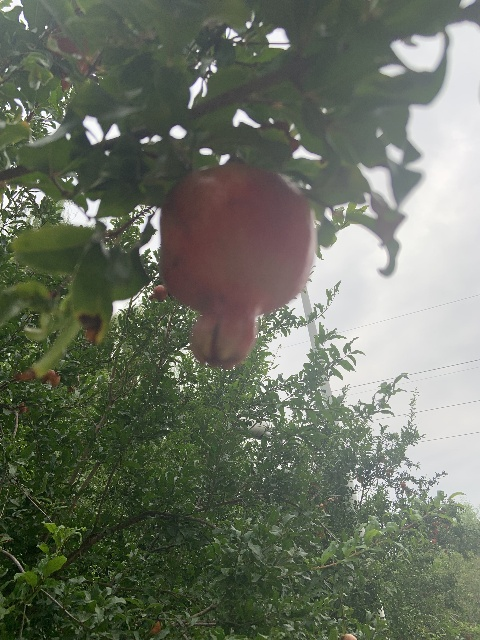ripe: (159, 163, 318, 368), (41, 369, 60, 387), (148, 284, 168, 301)
